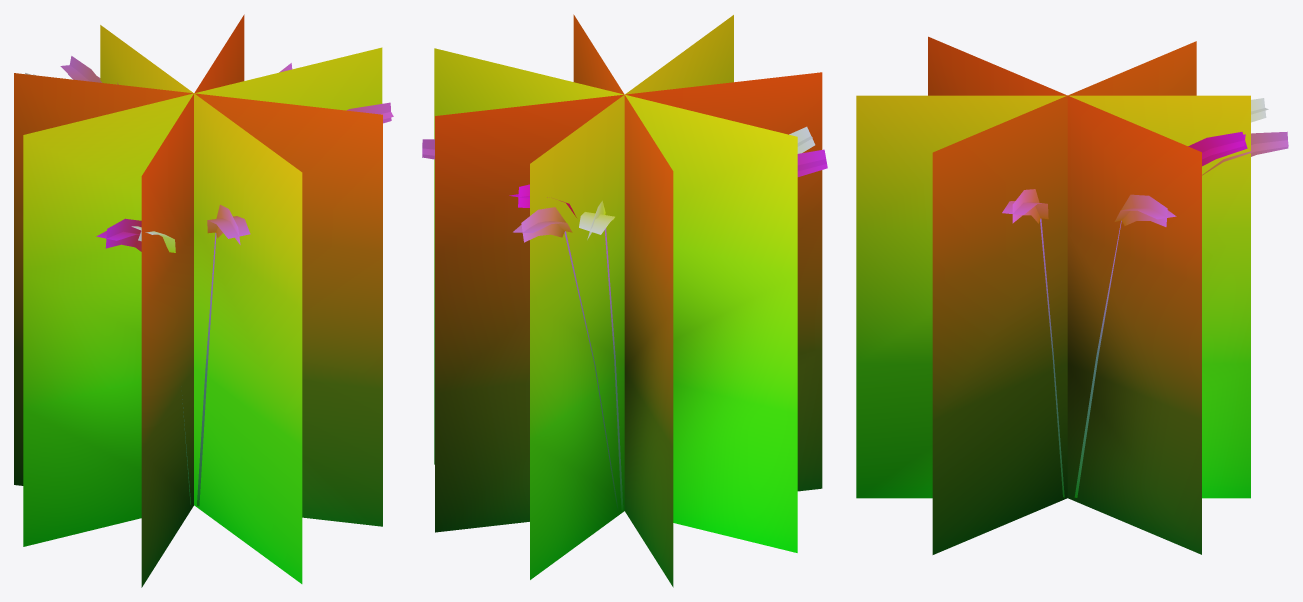
File: Rice_AlmostRipe_A.fbx
3 views of the same model, side by side, from view 1: azimuth 30°, elevation 25°; view 2: azimuth 150°, elevation 25°; view 3: azimuth 270°, elevation 25° (orthographic). The views are drawn at different scales.
Visible parts, largest first — view 1: Rice_AlmostRipe_A_LOD0; view 2: Rice_AlmostRipe_A_LOD0; view 3: Rice_AlmostRipe_A_LOD0.
Boxes of the visible parts, left/top/right/bottom form: Rice_AlmostRipe_A_LOD0: left=14, top=14, right=393, bottom=587; Rice_AlmostRipe_A_LOD0: left=422, top=14, right=827, bottom=587; Rice_AlmostRipe_A_LOD0: left=856, top=36, right=1288, bottom=554.
Size of what is drawn, in the model's own units: 1.02 by 1.12 by 1.09.
